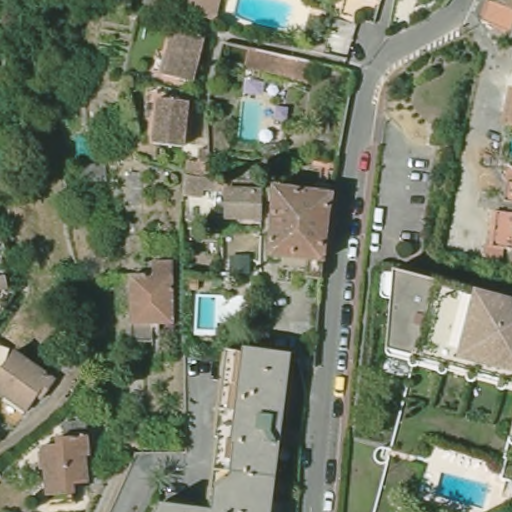pool: (229, 1, 301, 34), (429, 471, 491, 505), (234, 97, 277, 146), (67, 130, 101, 174), (191, 289, 222, 333)
